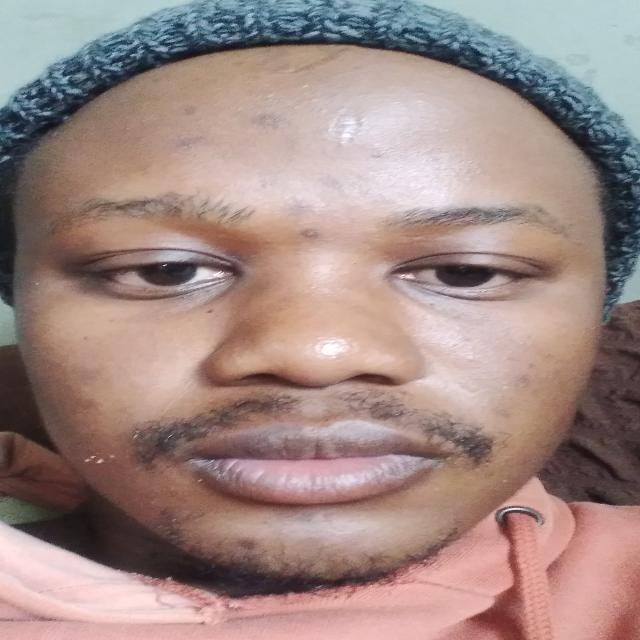Acne: (246, 111, 289, 131), (286, 196, 324, 218), (315, 174, 348, 195), (165, 135, 204, 152), (236, 536, 258, 554), (177, 104, 200, 120), (296, 226, 322, 240), (511, 372, 532, 389), (464, 353, 483, 365), (524, 359, 536, 369), (543, 350, 555, 358)
Eyebags: (68, 270, 246, 312), (384, 276, 545, 320)
